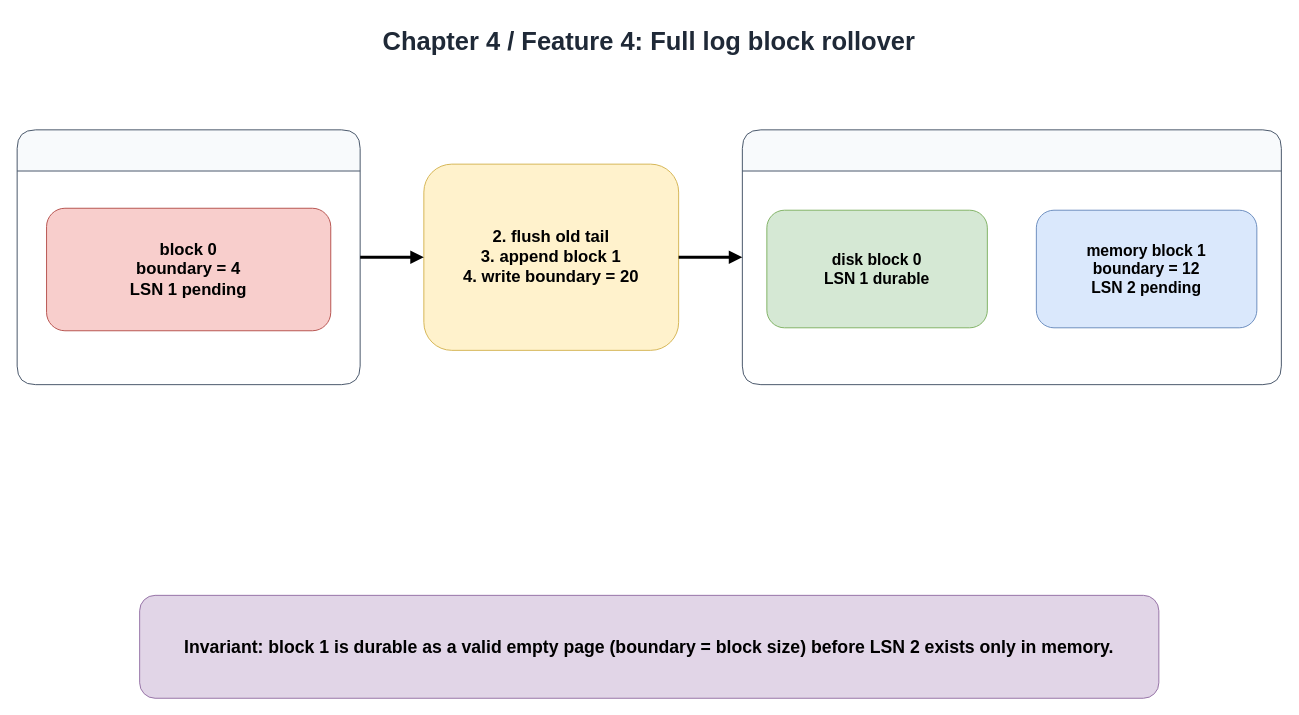
The diagram is 1299 pixels wide and 715 high, and some of its shapes have lost their labels. Each missing label, with the box of its shape:
1. Full memory tail: (16, 129, 360, 385)
5. New memory tail: (741, 129, 1281, 385)
